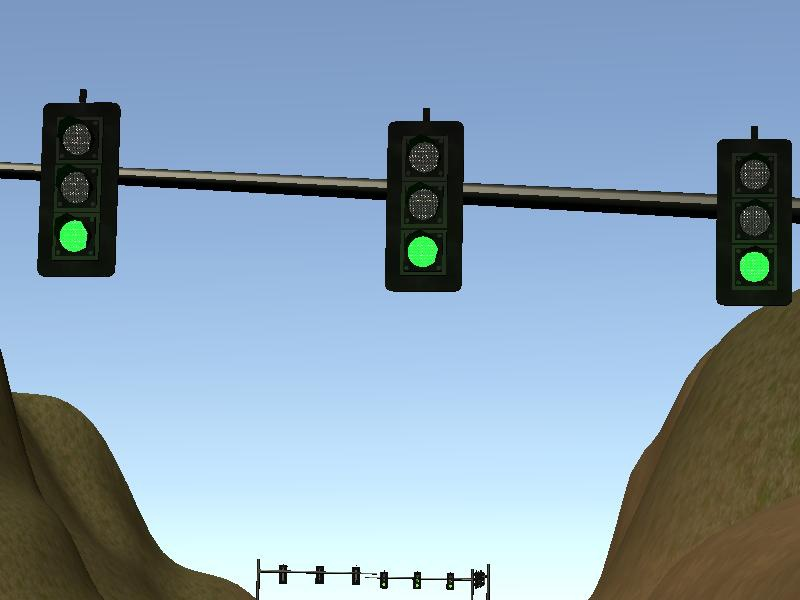green_light: (390, 124, 462, 288), (719, 142, 791, 305), (44, 105, 112, 275)
